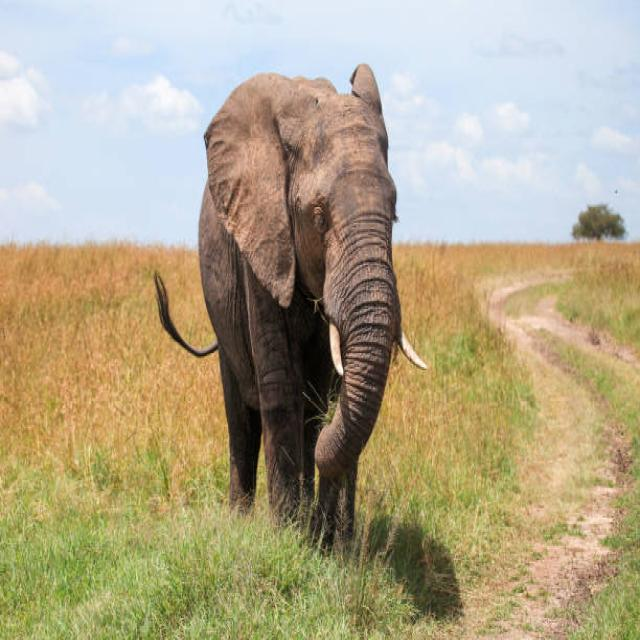Elephant: (146, 51, 452, 568)
